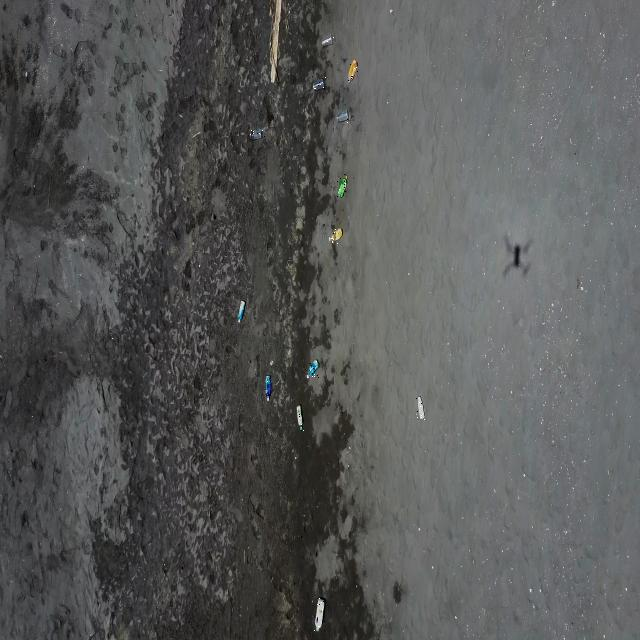plastic-bottle: (314, 597, 325, 631), (337, 174, 348, 198), (306, 358, 319, 378), (348, 58, 358, 84), (264, 374, 273, 402), (295, 404, 304, 432), (236, 300, 246, 324), (329, 227, 343, 244), (416, 396, 425, 420)
takeaway-cup: (312, 76, 326, 91), (250, 128, 265, 142), (336, 110, 349, 124), (321, 35, 334, 47)
